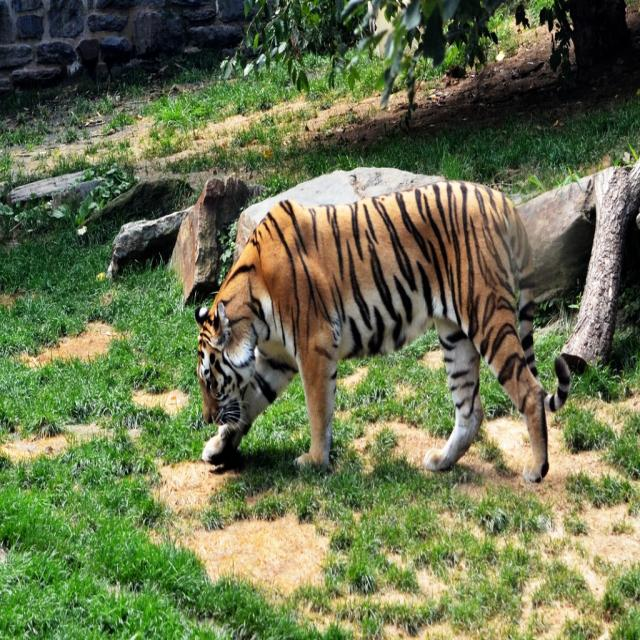Tiger: (194, 179, 572, 481)
